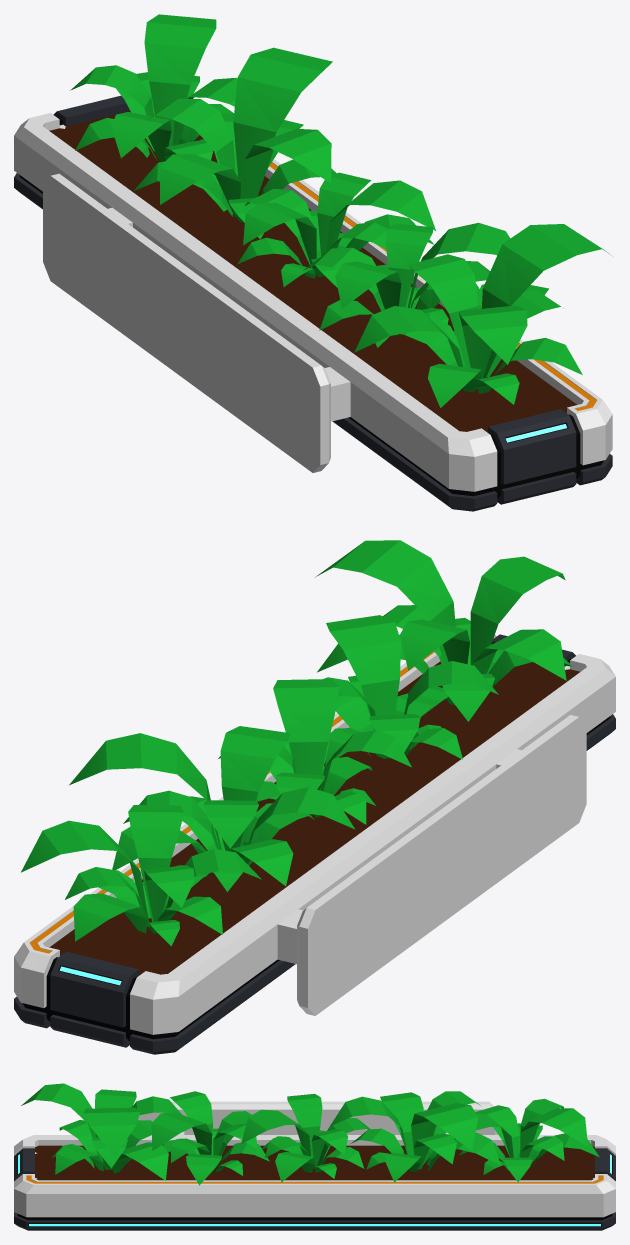
File: SM_Modular_WallPlanter.fbx
The picture shows the model from 3 angles, top to bottom: view 1: azimuth 30°, elevation 25°; view 2: azimuth 150°, elevation 25°; view 3: azimuth 270°, elevation 25°; orthographic projection. The views are drawn at different scales.
Parts seen in each view (by area): view 1: SM_Modular_WallPlanter; view 2: SM_Modular_WallPlanter; view 3: SM_Modular_WallPlanter.
Part boxes in pixels (x1,y1,x2,y2): SM_Modular_WallPlanter: (14,14,612,511); SM_Modular_WallPlanter: (14,540,615,1054); SM_Modular_WallPlanter: (14,1083,615,1230).
Size of the model in its own units: 43.28 by 28.54 by 120.
